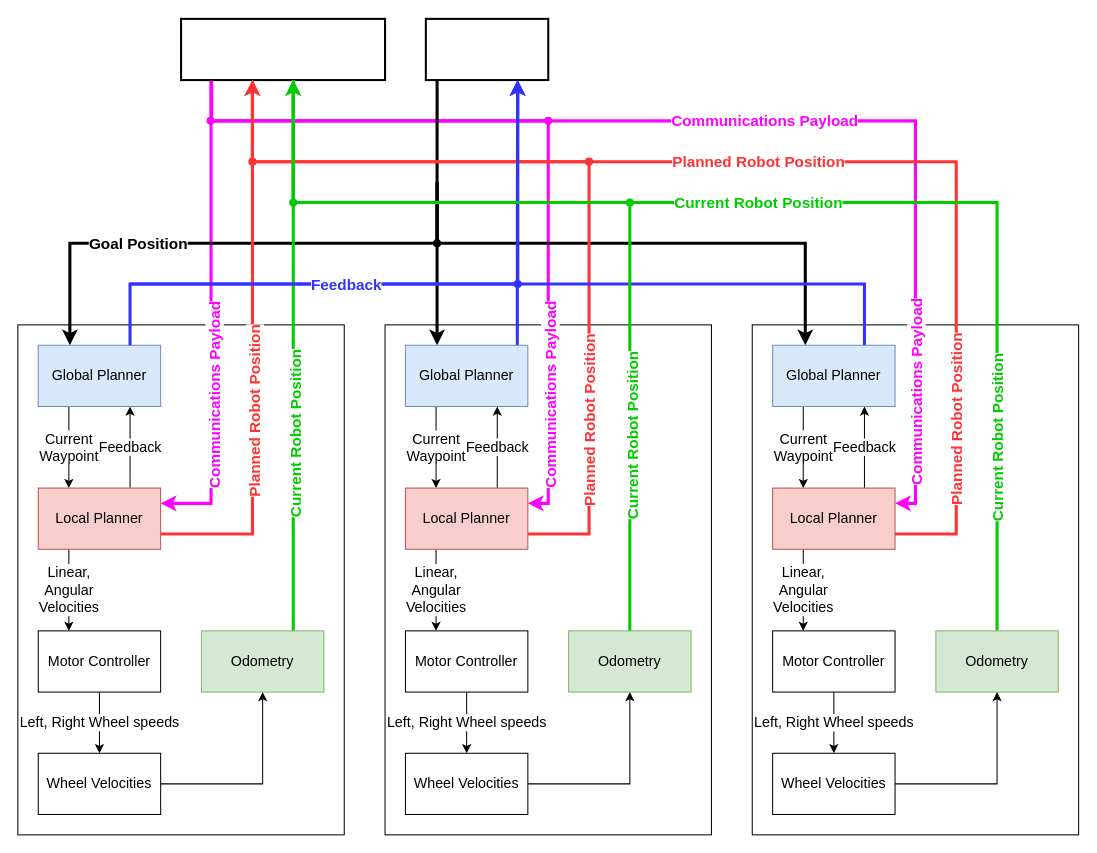
Some shapes in this 1097 by 853 pixel diagram are drawn without their labels. Here are the shapes that lost their labels. From the top down, the box of each, then its label:
(180, 17, 386, 81): odom_distribution
(424, 17, 549, 81): goal_creation
(17, 324, 344, 835): Robot 1
(384, 324, 711, 835): Robot 2
(751, 324, 1079, 835): Robot n
